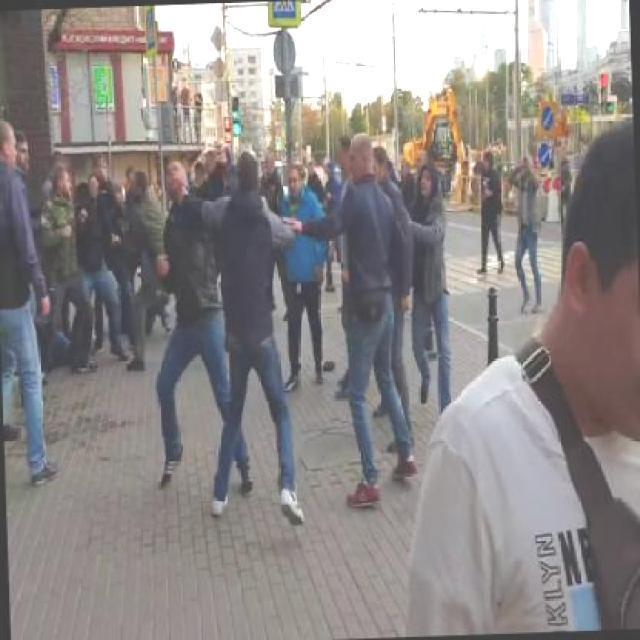fight: (152, 155, 312, 528)
